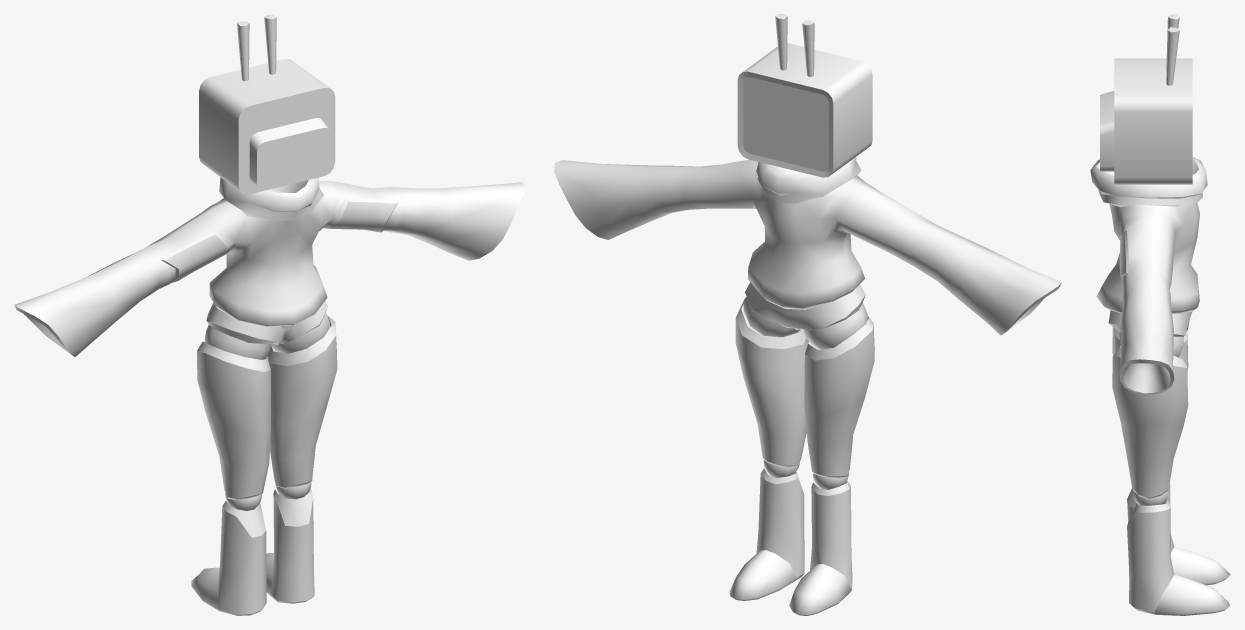
Rendered from cewe.fbx.
3 views of the same model, side by side, from view 1: azimuth 30°, elevation 25°; view 2: azimuth 150°, elevation 25°; view 3: azimuth 270°, elevation 25° (orthographic).
Parts seen in each view (by area): view 1: Circle.004, Cube.001, Circle.005; view 2: Circle.004, Cube.001, Circle.005; view 3: Circle.004, Cube.001, Circle.005.
Boxes of the visible parts, box(x1,y1,x2,y2) form: Circle.004: box(14, 14, 525, 615); Cube.001: box(199, 59, 335, 194); Circle.005: box(219, 177, 323, 221); Circle.004: box(554, 14, 1061, 615); Cube.001: box(737, 43, 872, 177); Circle.005: box(756, 157, 861, 203); Circle.004: box(1096, 14, 1230, 615); Cube.001: box(1100, 58, 1192, 184); Circle.005: box(1090, 157, 1207, 207).
Bounding box in the file's own units: 2831 × 3057 × 682.
